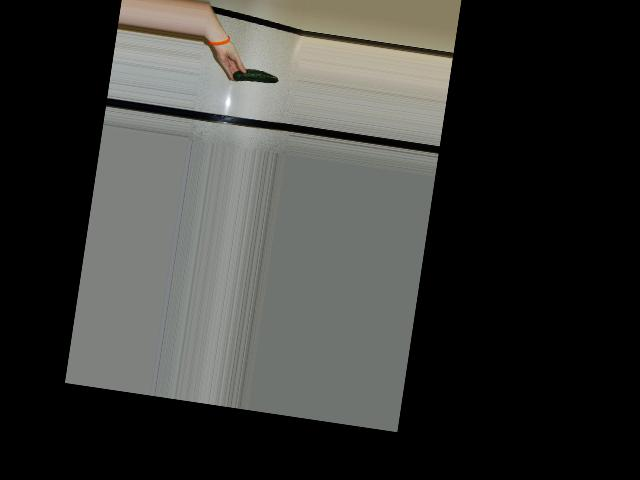cucumber: (231, 67, 279, 87)
